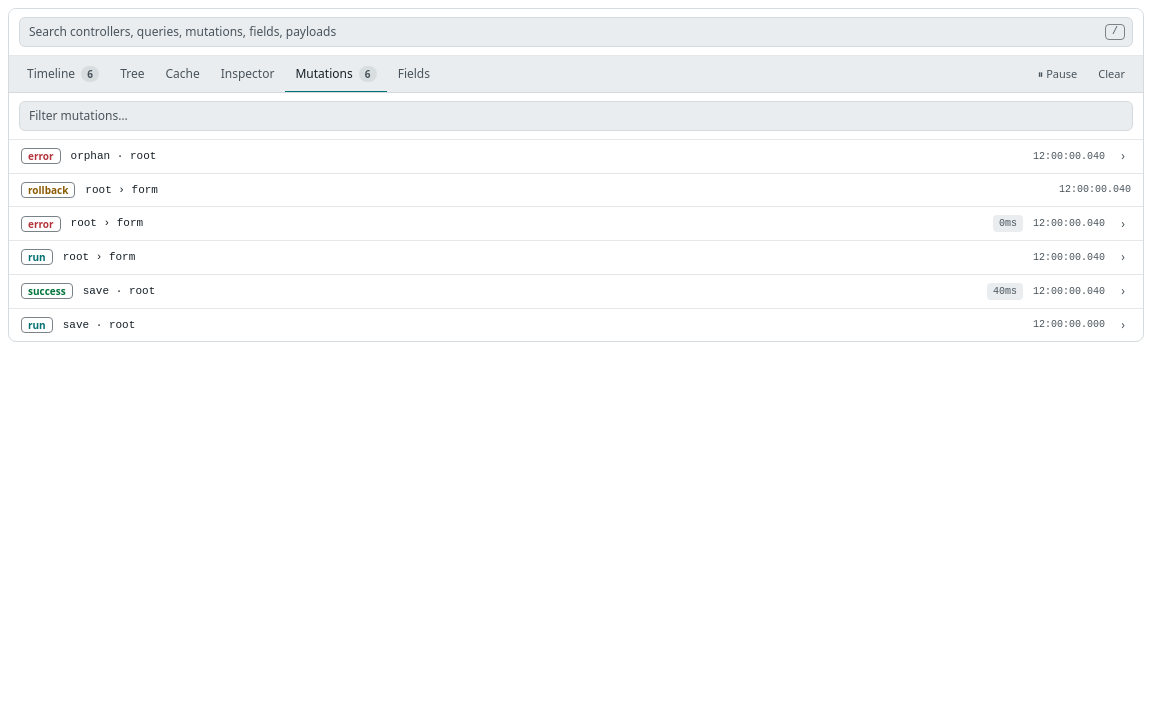
Test: Mutations log › renders run / success / error / rollback with payloads and paired durations
Expected: the text with class "olas-devtools-target" next to "12:00:00.000" reads "save · root", [63,318,135,330]
Expected: the text with class "olas-devtools-duration" reads "40ms", [993,286,1017,296]
Click the element with class "olas-devtools-row-top" showing "run save · root 12:00:00.000 ›". click: {"x": 37, "y": 325}
box: [21,316,1125,333]
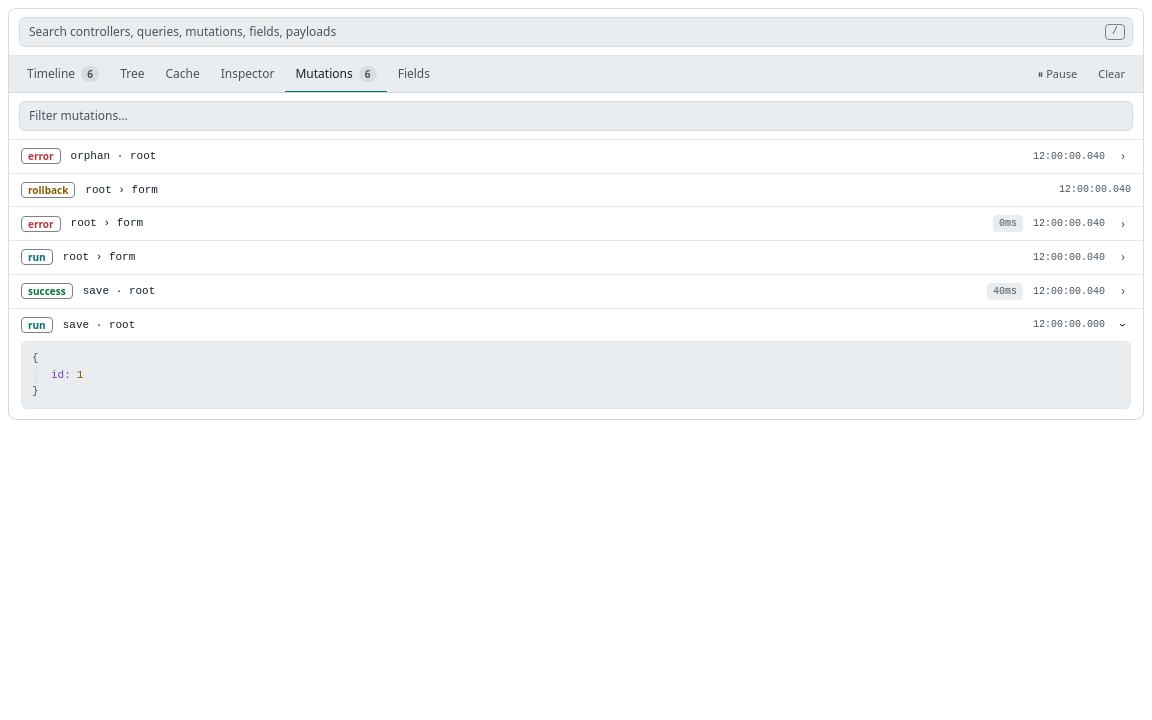
Now the element with class "olas-devtools-payload-json" reads "{ id:1 }", box [21,341,1131,408]
Click the element with class "olas-devtools-row-top" that starts with "success". click: {"x": 47, "y": 291}
box: [21,282,1125,300]
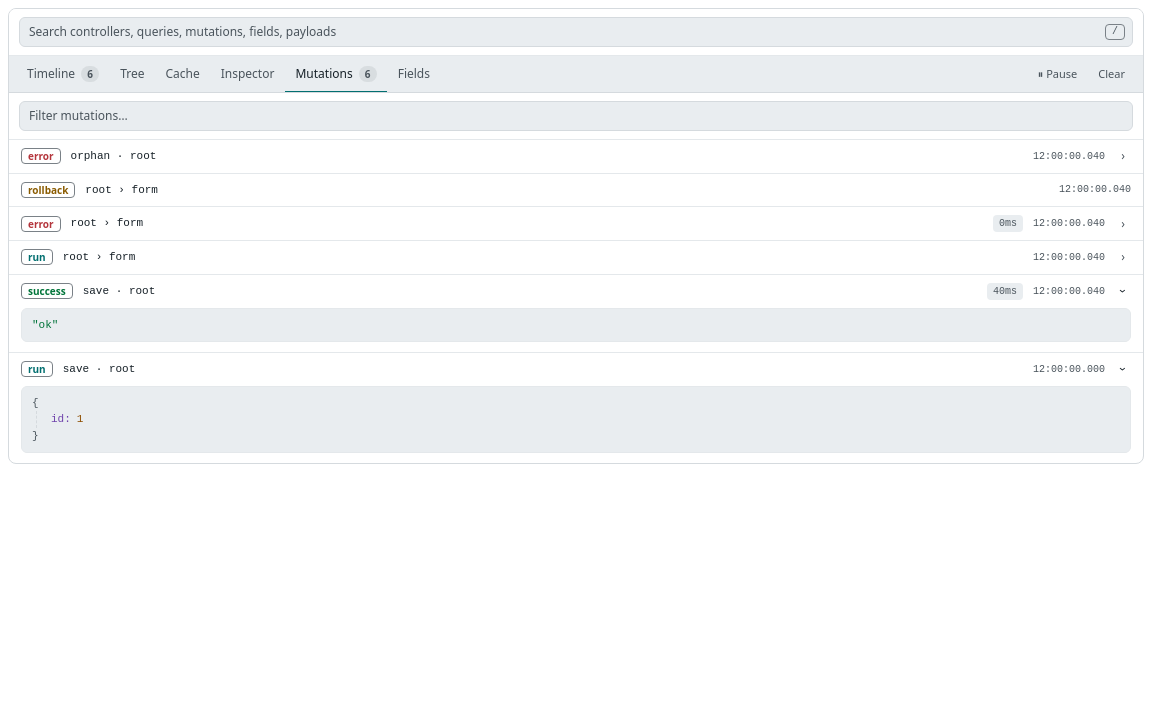
Now the element with class "olas-devtools-payload-json" reads "\"ok\"", box [21,308,1131,342]
Click the 3rd element with class "olas-devtools-row-top". click: {"x": 41, "y": 224}
box: [21,214,1125,232]
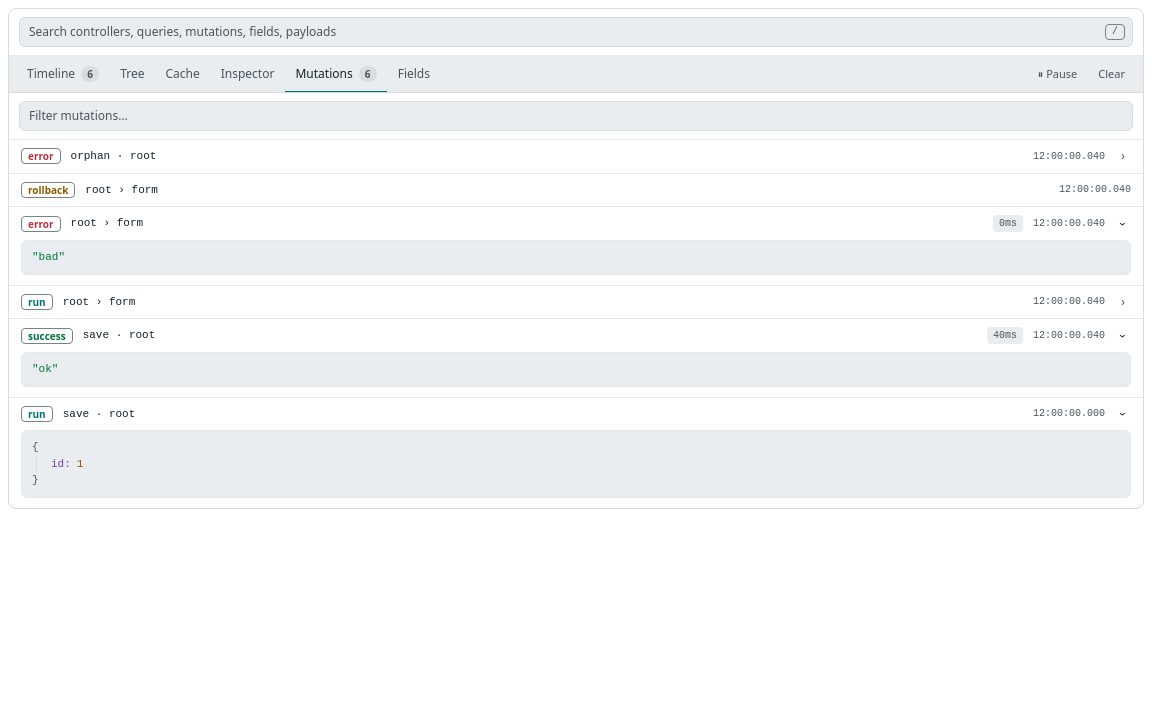
Now the element with class "olas-devtools-payload-json" reads "\"bad\"", box [21,240,1131,274]
